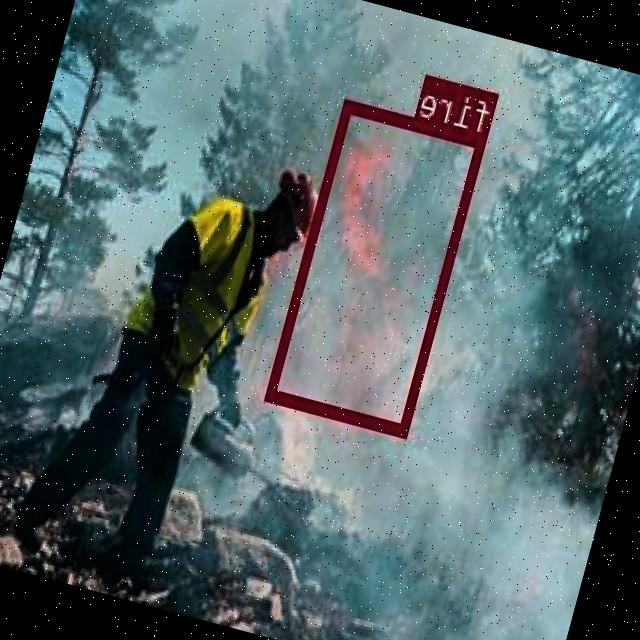fire: (268, 98, 488, 435)
